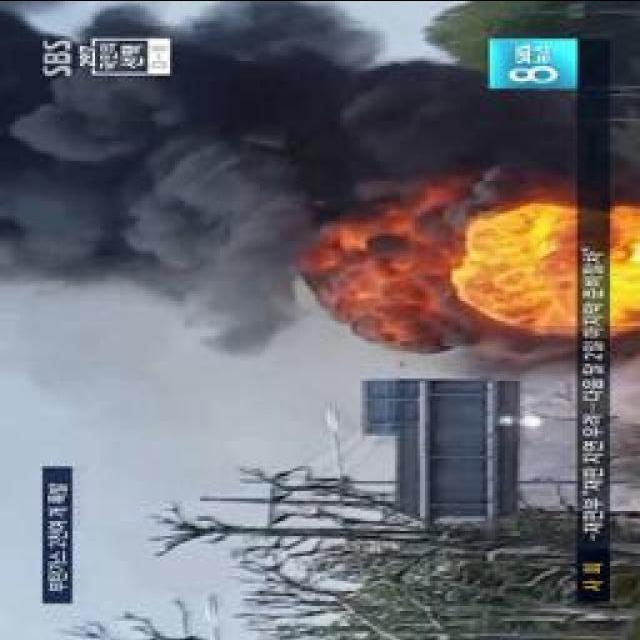Fire: (473, 208, 583, 338), (615, 200, 640, 338)
